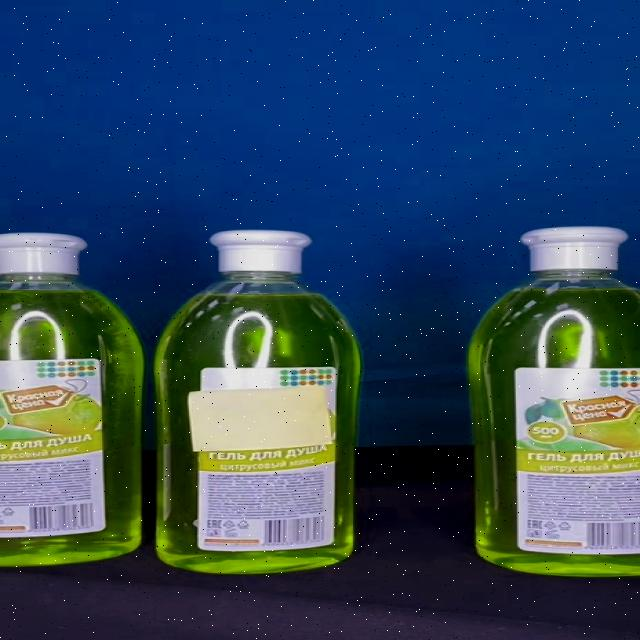Bottle: (152, 229, 361, 574), (466, 227, 640, 575)
Cap: (521, 228, 628, 271), (209, 230, 312, 273)
